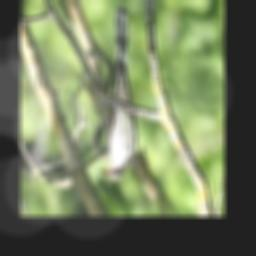Cuckoo: (100, 6, 136, 179)
